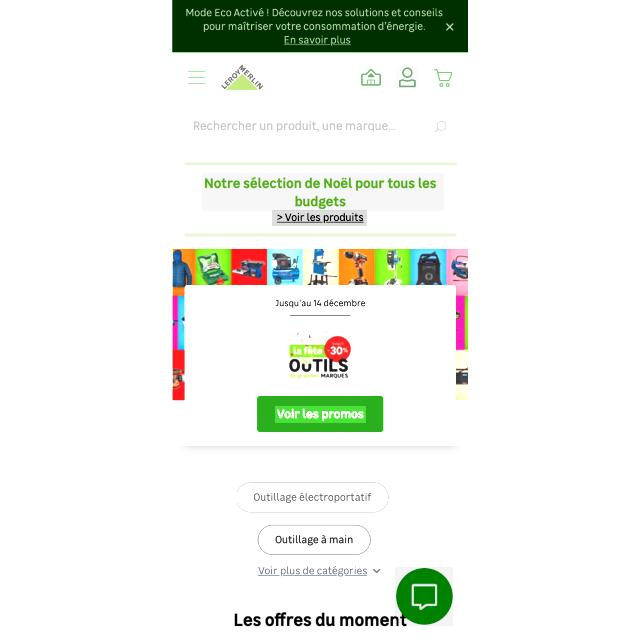CheckBox: (255, 395, 386, 434), (395, 567, 453, 626), (272, 210, 367, 227)
CheckedTextView: (183, 105, 457, 146)
ProgressBar: (172, 0, 468, 52)
alert: (258, 562, 382, 582)
bag: (172, 52, 468, 151)
breadcrumbs: (202, 173, 444, 211)
card: (171, 248, 469, 446)
carousel: (396, 66, 418, 88), (360, 67, 382, 87), (431, 68, 453, 88), (432, 118, 448, 136)
data feed: (275, 406, 366, 423)
date picker: (217, 62, 265, 93)
decoration: (184, 67, 210, 88)
footer: (193, 120, 402, 134)
illustration: (238, 482, 392, 513), (258, 523, 370, 556)
